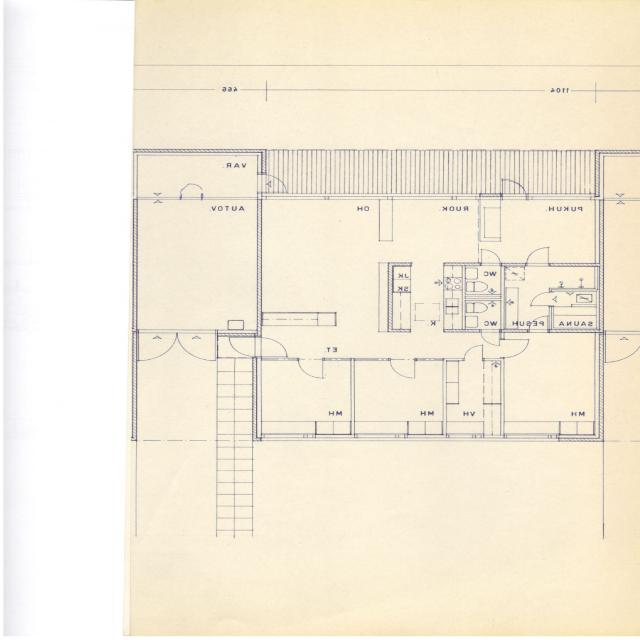door: (177, 330, 216, 362), (139, 330, 177, 362), (253, 337, 288, 356), (227, 337, 262, 356), (501, 175, 527, 200), (258, 174, 292, 192), (500, 340, 530, 358), (390, 358, 414, 378), (299, 358, 323, 378), (527, 248, 549, 266), (182, 182, 202, 200), (532, 292, 554, 306), (482, 250, 501, 266), (464, 344, 482, 360), (481, 330, 499, 346), (530, 316, 548, 332)
